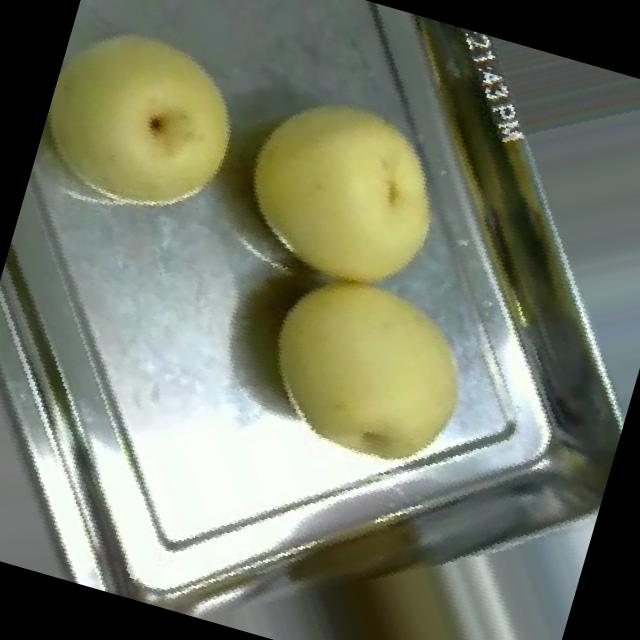Fruit: (227, 243, 502, 510), (206, 61, 480, 320), (22, 0, 279, 255), (270, 504, 549, 640)
